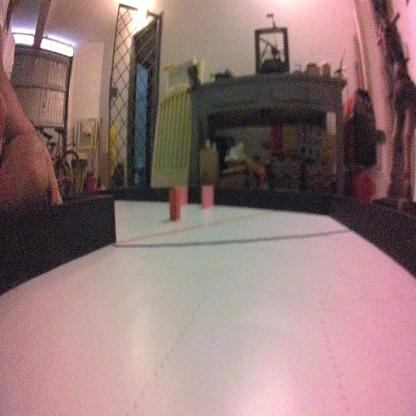magenta: (200, 180, 214, 212), (174, 183, 186, 210)
red: (168, 185, 180, 219)
